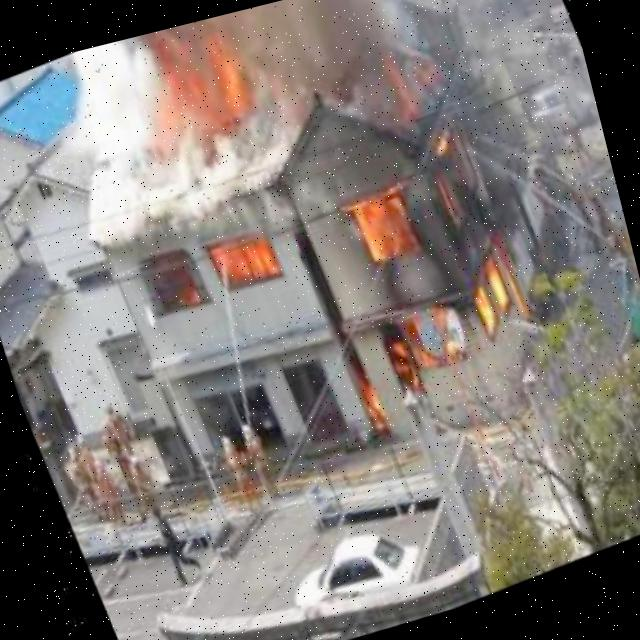fire: (235, 44, 601, 460), (100, 9, 276, 173), (164, 227, 280, 316)
